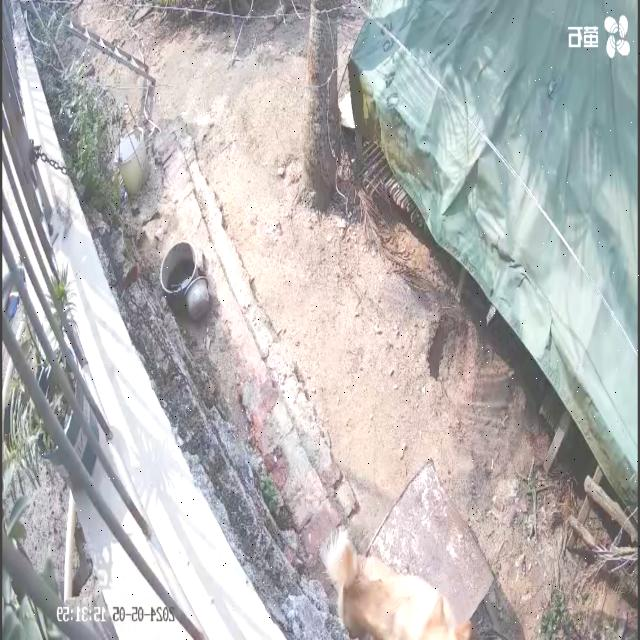dog: (321, 527, 475, 640)
